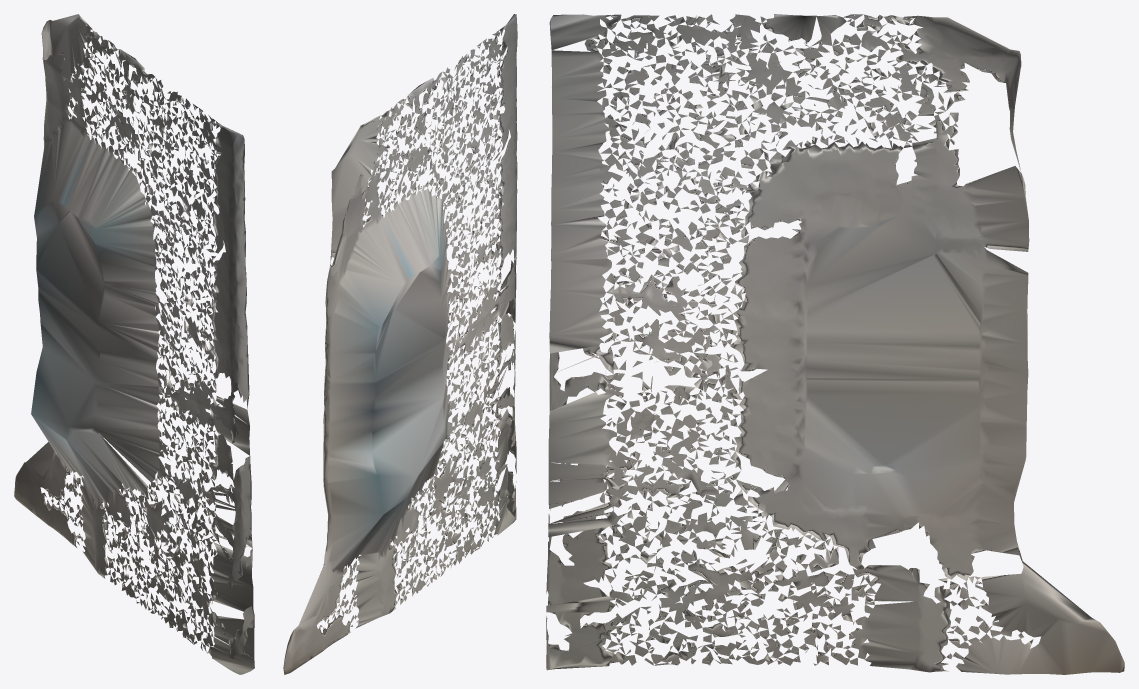
The model's file is Wall_5 - E101.gltf.
3 renders of one model, left to right at view 1: azimuth 30°, elevation 25°; view 2: azimuth 150°, elevation 25°; view 3: azimuth 270°, elevation 25°, orthographic. The views are drawn at different scales.
Size of the model in its own units: 0.3547 by 3.74 by 3.
